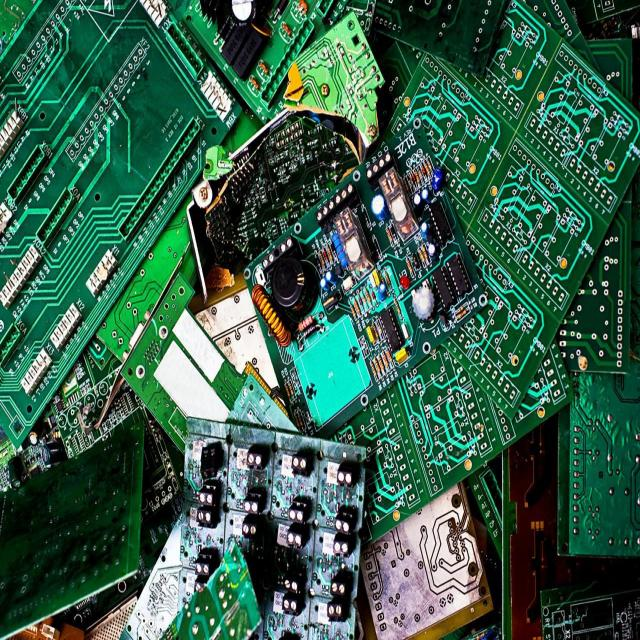metel: (13, 34, 202, 443), (228, 162, 520, 398)
